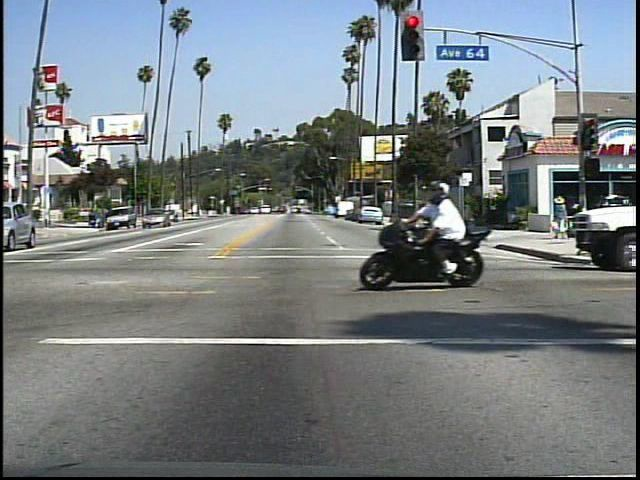person: (414, 179, 482, 283), (550, 192, 575, 241)
